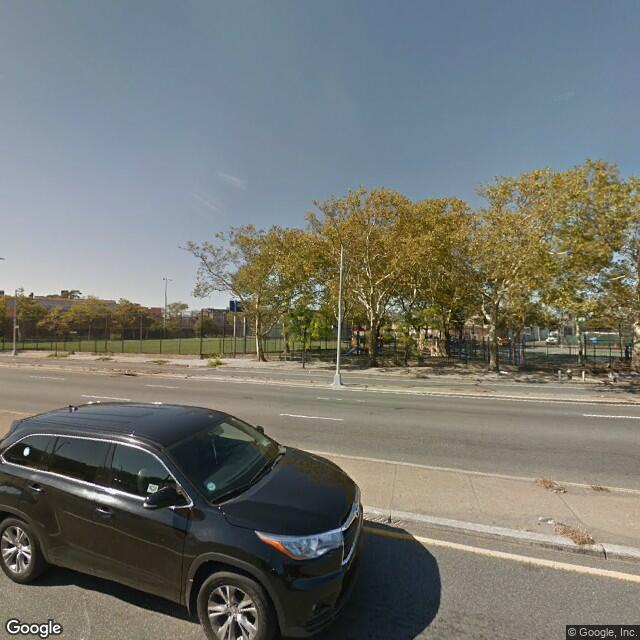litter: (537, 515, 562, 525), (544, 483, 567, 493)
